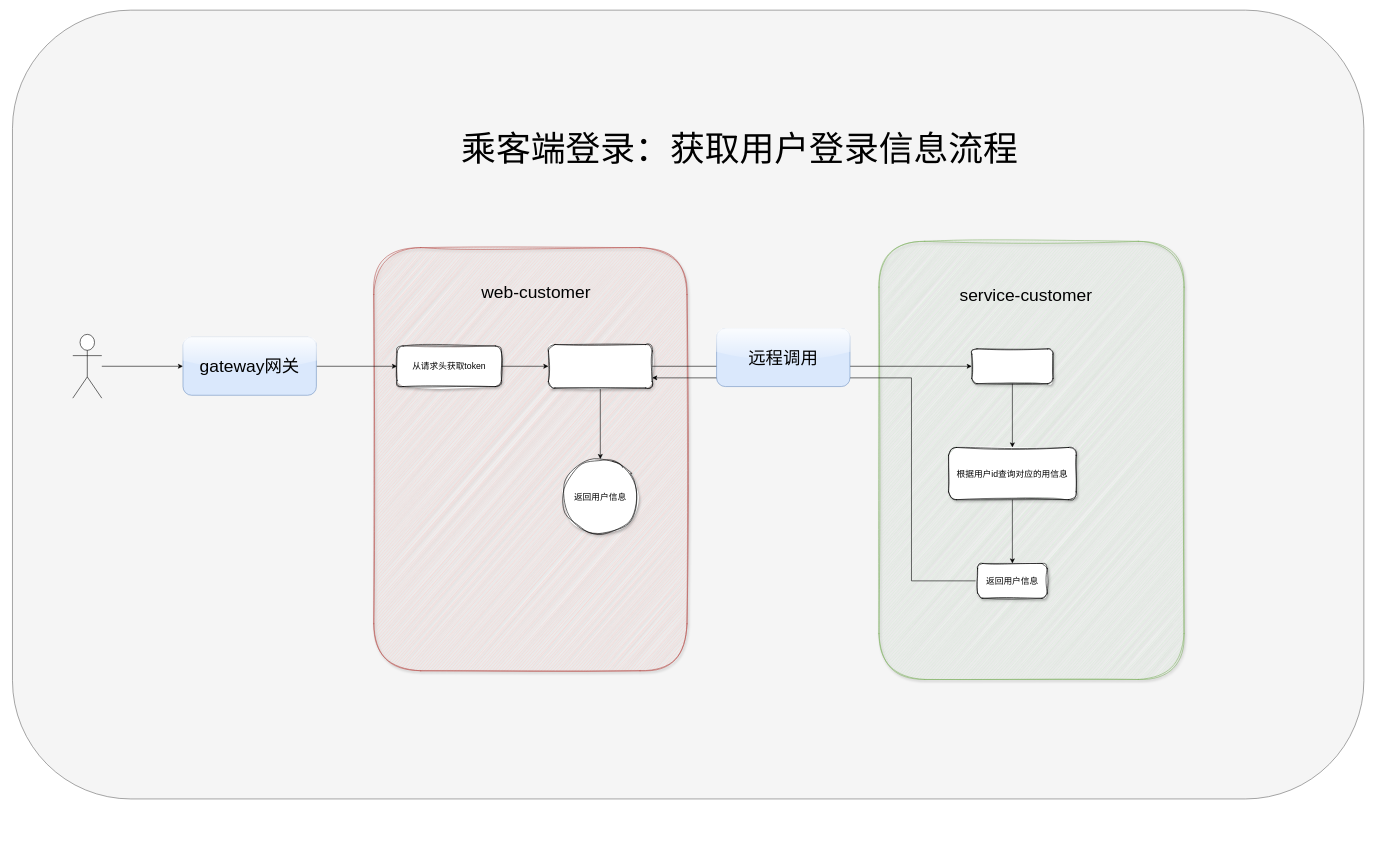
Image size: 1377x862. Some labels were removed from this diagram. Each missing label, with the centre of its shape:
后端接口获取用户id: point 1012,367
拿token查询reids，获取用户id，获取用户对应信息: point 600,367
用户: point 87,366
